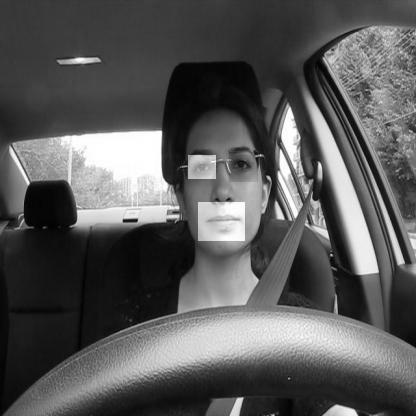seatbelt: (170, 69, 304, 416)
